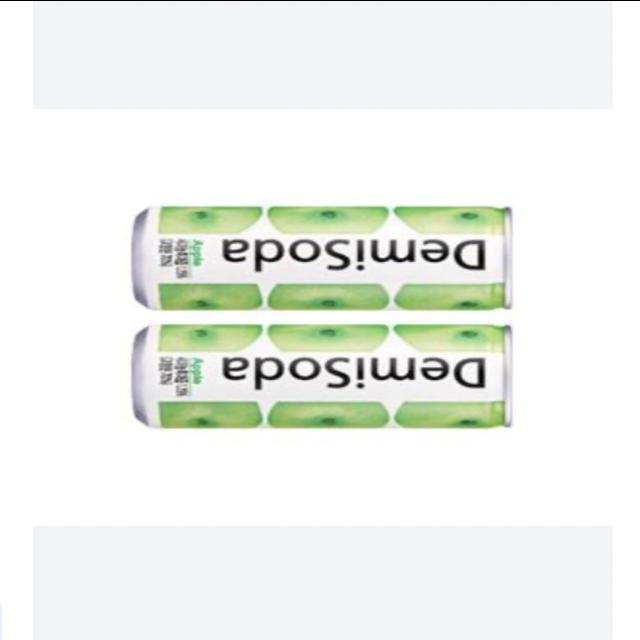can: (117, 192, 532, 318), (122, 313, 536, 437)
